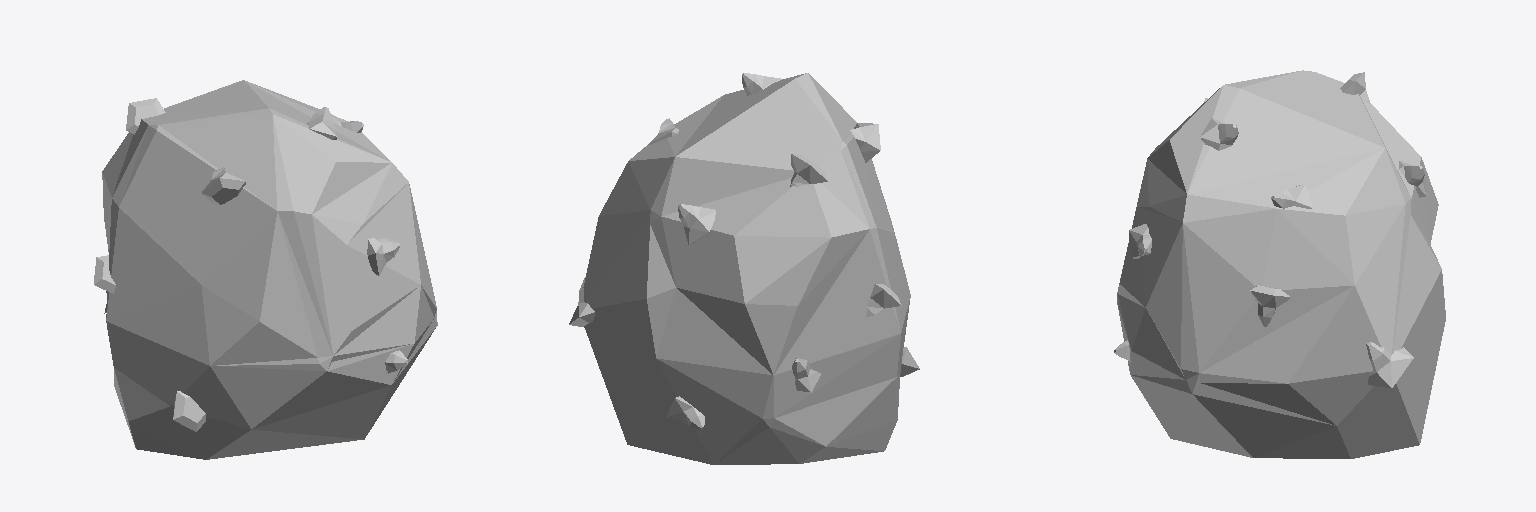
The model's file is CookieRock2.obj.
3 renders of one model, left to right at view 1: azimuth 30°, elevation 25°; view 2: azimuth 150°, elevation 25°; view 3: azimuth 270°, elevation 25°, orthographic.
Visible parts, largest first — view 1: Cookie, Chunks; view 2: Cookie, Chunks; view 3: Cookie, Chunks.
Boxes of the visible parts, <box> form: Cookie: <box>102,80,437,459</box>; Chunks: <box>94,98,407,431</box>; Cookie: <box>583,73,910,464</box>; Chunks: <box>569,73,919,429</box>; Cookie: <box>1117,70,1445,458</box>; Chunks: <box>1114,72,1434,387</box>.
Size of the model in its own units: 3.95 by 4.22 by 3.84.